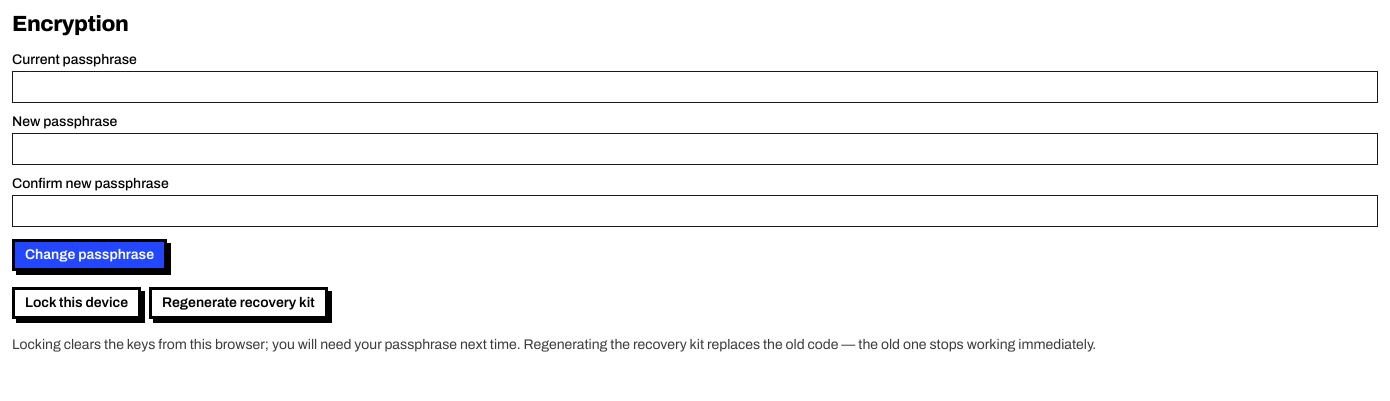
Scenario: EncryptionSettings › changes the passphrase and reports the wrong current one
Type "wrong one here" into the password field labelled "Current passphrase". click: (695, 87)
box: [12,71,1378,103]
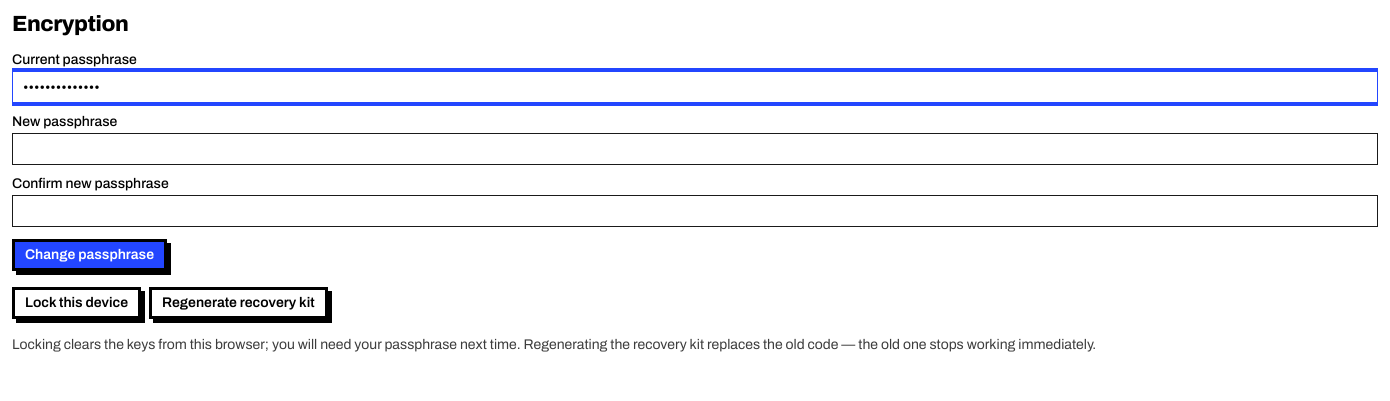
Type "a brand new passphrase" into the password field labelled "New passphrase". click: (695, 149)
box: [12,133,1378,165]
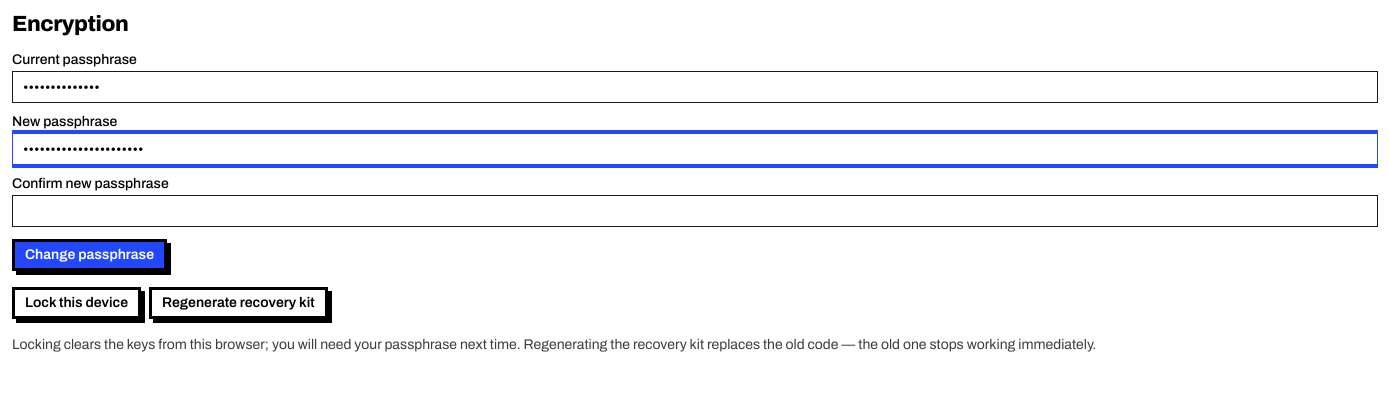
Type "a brand new passphrase" into the password field labelled "Confirm new passphrase". click: (695, 211)
box: [12,195,1378,227]
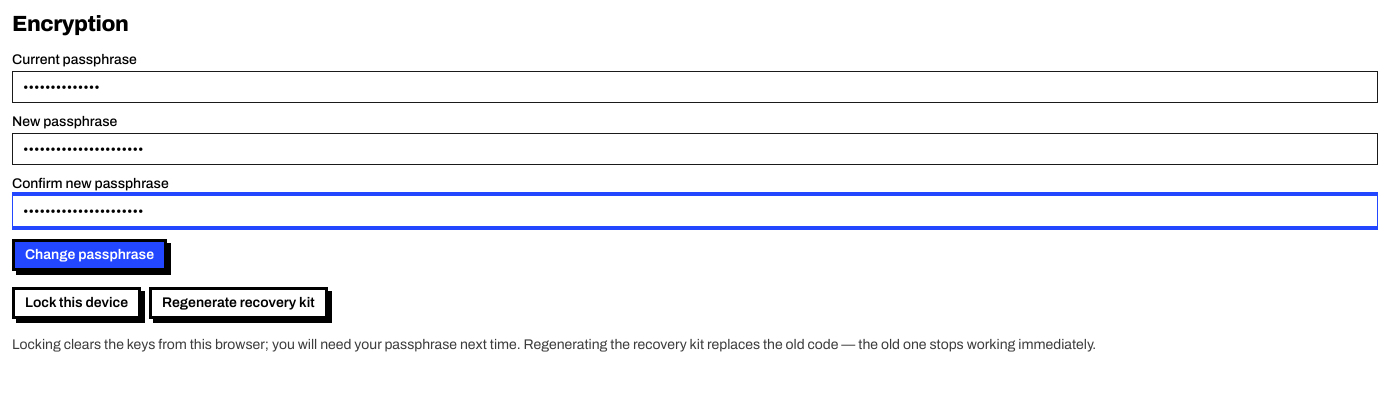
Click the button "Change passphrase". click: (90, 255)
box: [12,239,167,271]
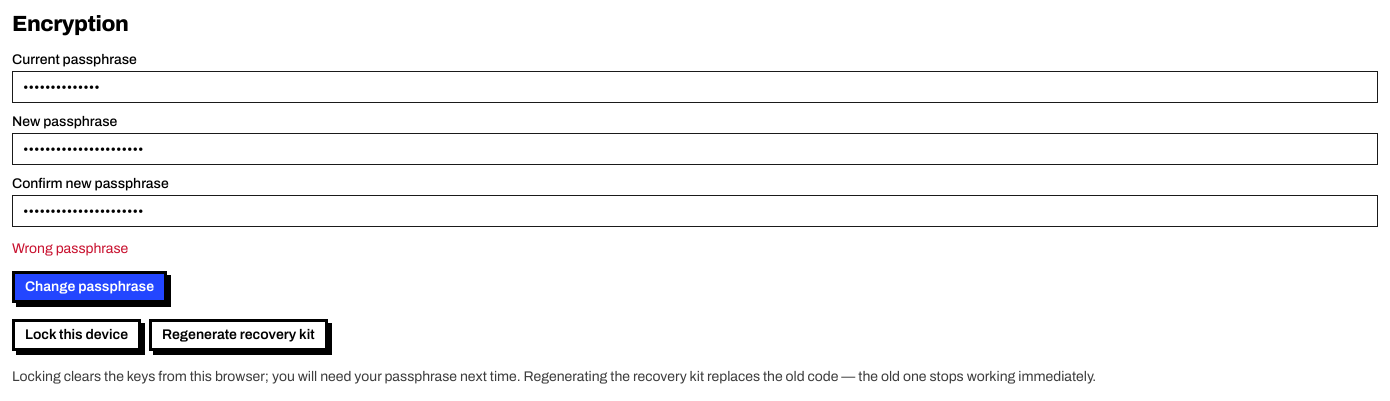
Now the text "Wrong passphrase" is shown, box [12,241,128,256]
Type "the current one" into the password field labelled "Current passphrase". click: (695, 87)
box: [12,71,1378,103]
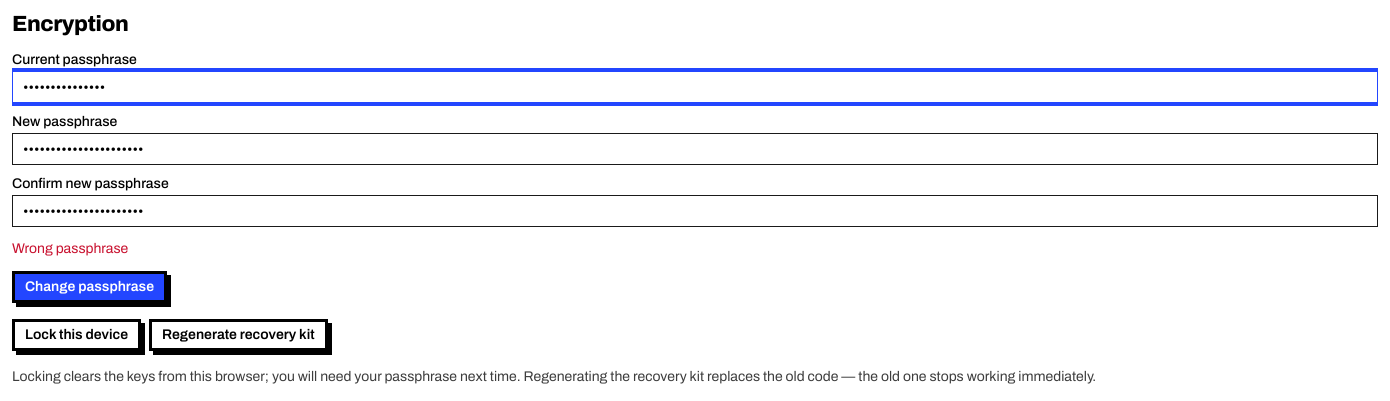
Click the button "Change passphrase". click: (90, 287)
box: [12,271,167,303]
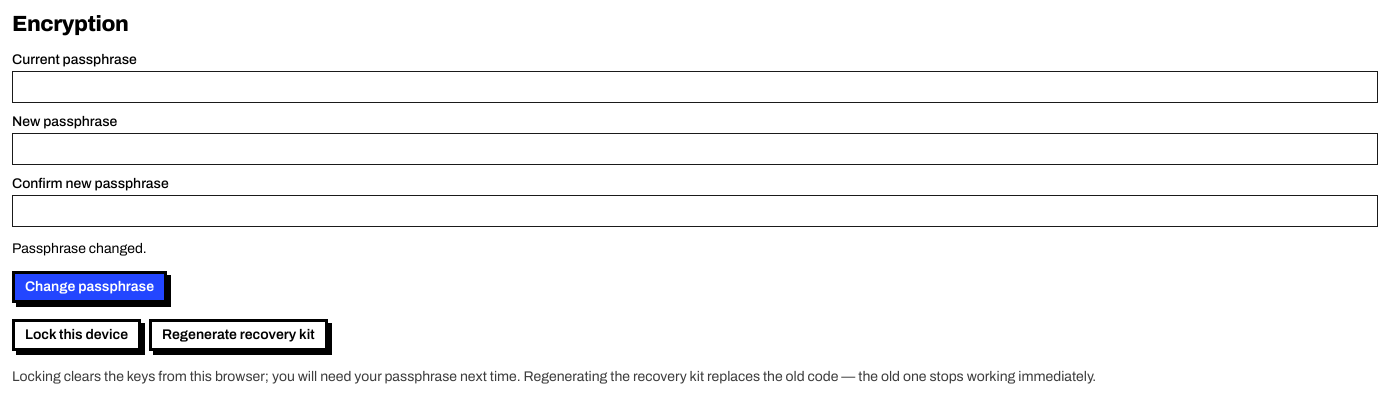
Now the text "Passphrase changed." is shown, box [12,241,147,256]
